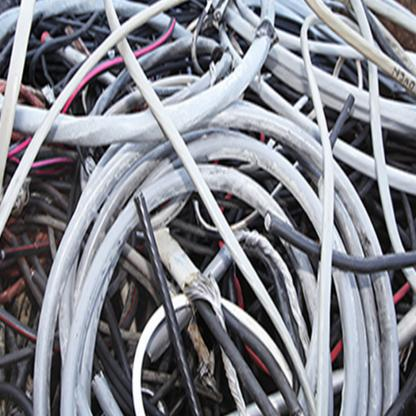wires: (0, 2, 416, 415)
